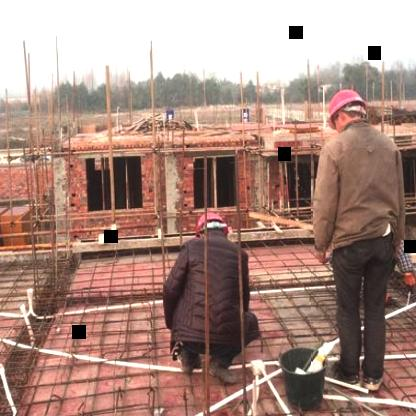helmet: (321, 82, 373, 140), (192, 206, 232, 247)
